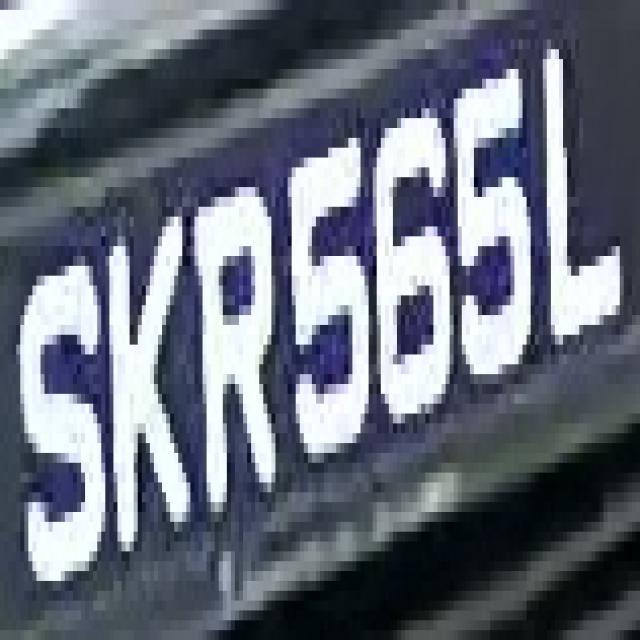5: (284, 128, 381, 502), (446, 59, 542, 404)
6: (364, 89, 462, 433)
K: (102, 167, 186, 591)
L: (539, 49, 624, 364)
R: (186, 158, 288, 532)
S: (16, 246, 110, 591)
